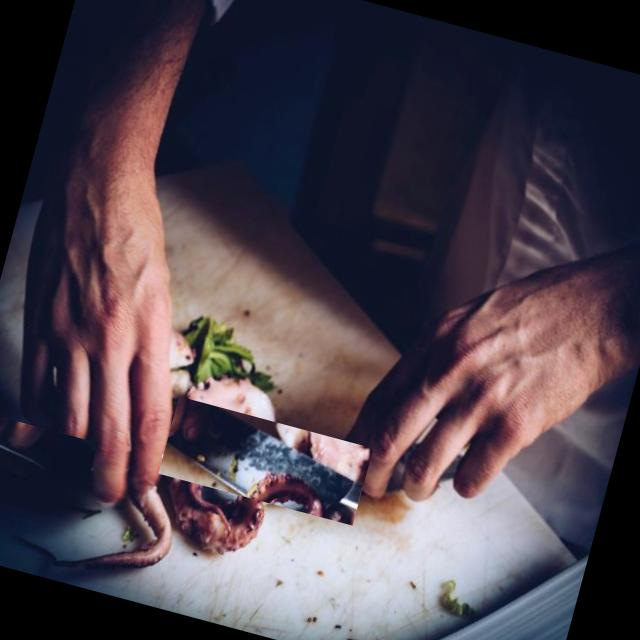Knife: (167, 407, 362, 513), (0, 435, 94, 483)
